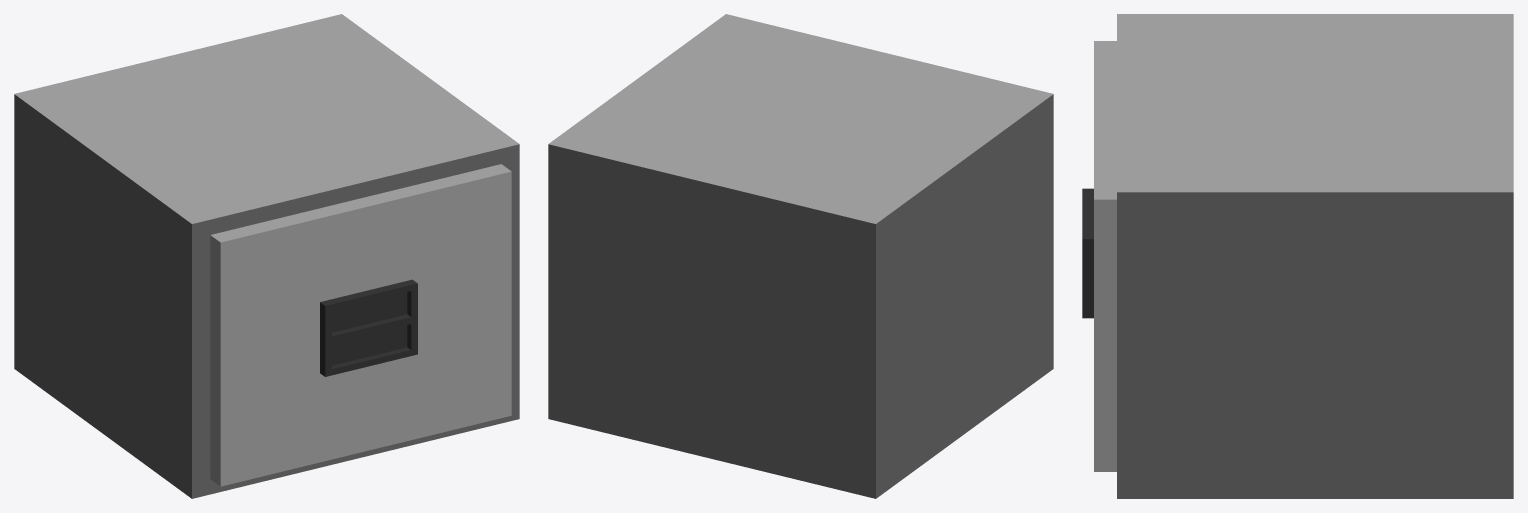
Rendered from cabinet1.FBX.
3 renders of one model, left to right at view 1: azimuth 30°, elevation 25°; view 2: azimuth 150°, elevation 25°; view 3: azimuth 270°, elevation 25°, orthographic. The views are drawn at different scales.
Visible parts, largest first — view 1: cabinet1; view 2: cabinet1; view 3: cabinet1.
Boxes of the visible parts, x1=… form: cabinet1: x1=14, y1=14, x2=519, y2=498; cabinet1: x1=548, y1=14, x2=1053, y2=498; cabinet1: x1=1082, y1=14, x2=1513, y2=498.
Bounding box in the file's own units: 59.22 × 47.45 × 60.55.
